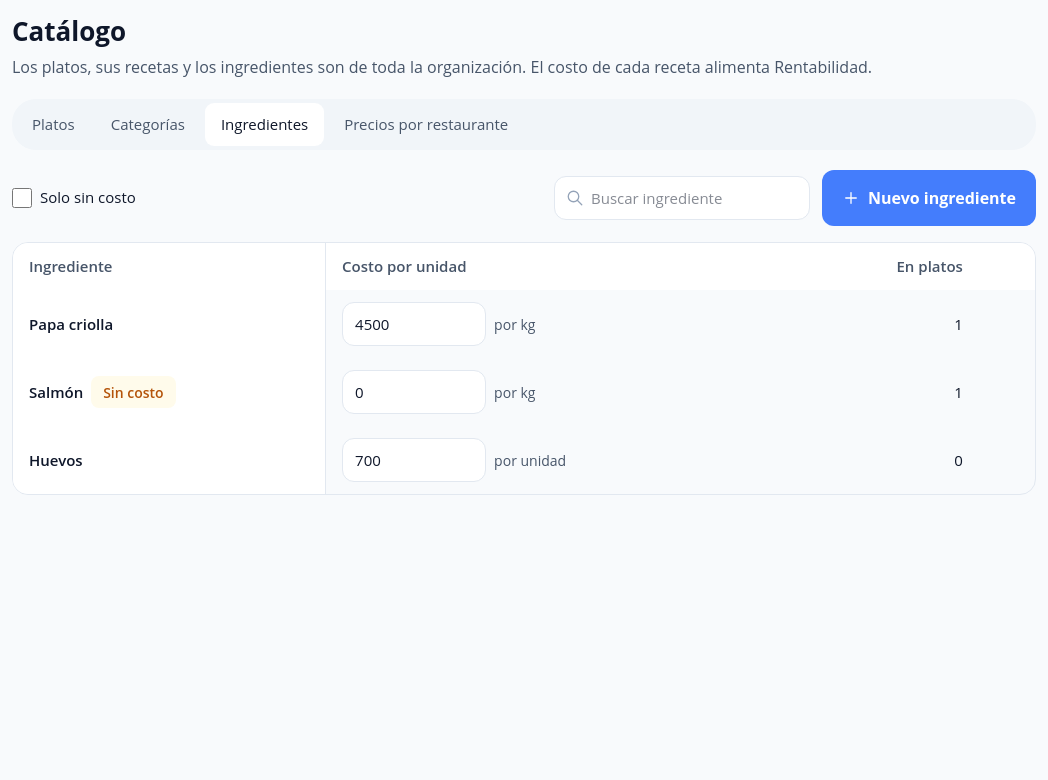
Test: guarda el costo de un ingrediente
The width and height of the screenshot is (1048, 780).
Expected: the row "Salmón Sin costo por kg 1" is shown, [13, 358, 1035, 426]
Expected: the number field named "Costo de Huevos por unidad" is shown, [342, 438, 486, 482]
Replace the text in the number field named "Costo de Papa criolla por kg" with "-1": (414, 324) [342, 302, 486, 346]
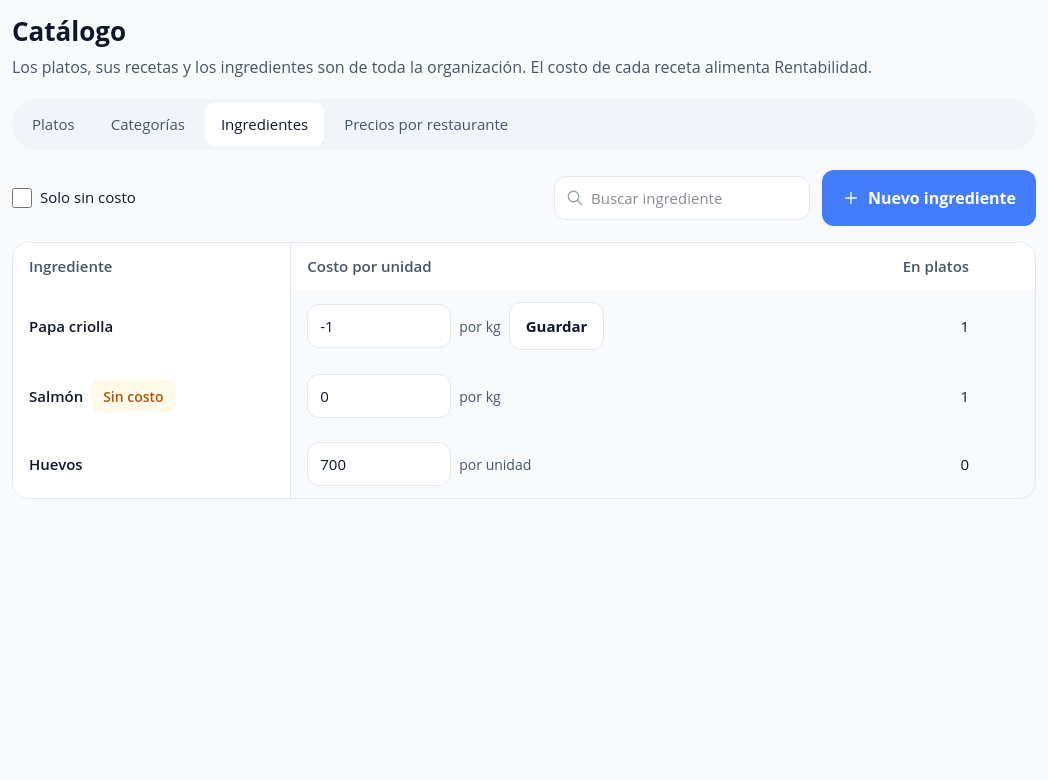
Click the button "Guardar": (557, 326) [509, 302, 604, 350]
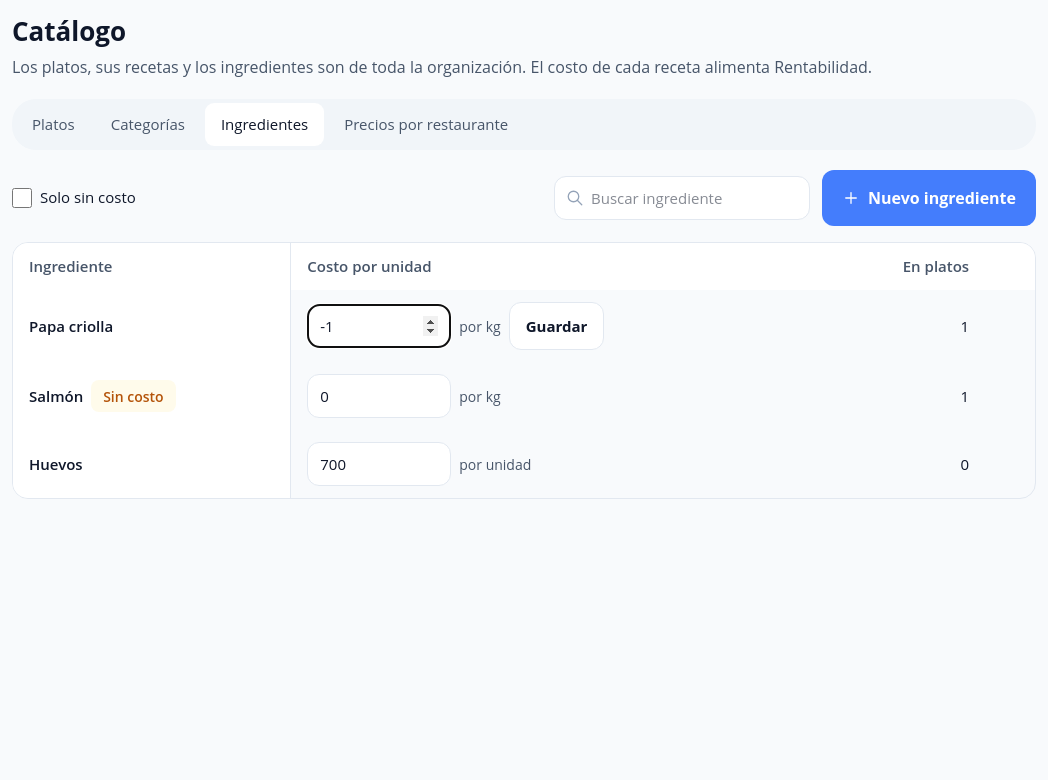
Replace the text in the number field named "Costo de Papa criolla por kg" with "5000": (379, 326) [307, 304, 451, 348]
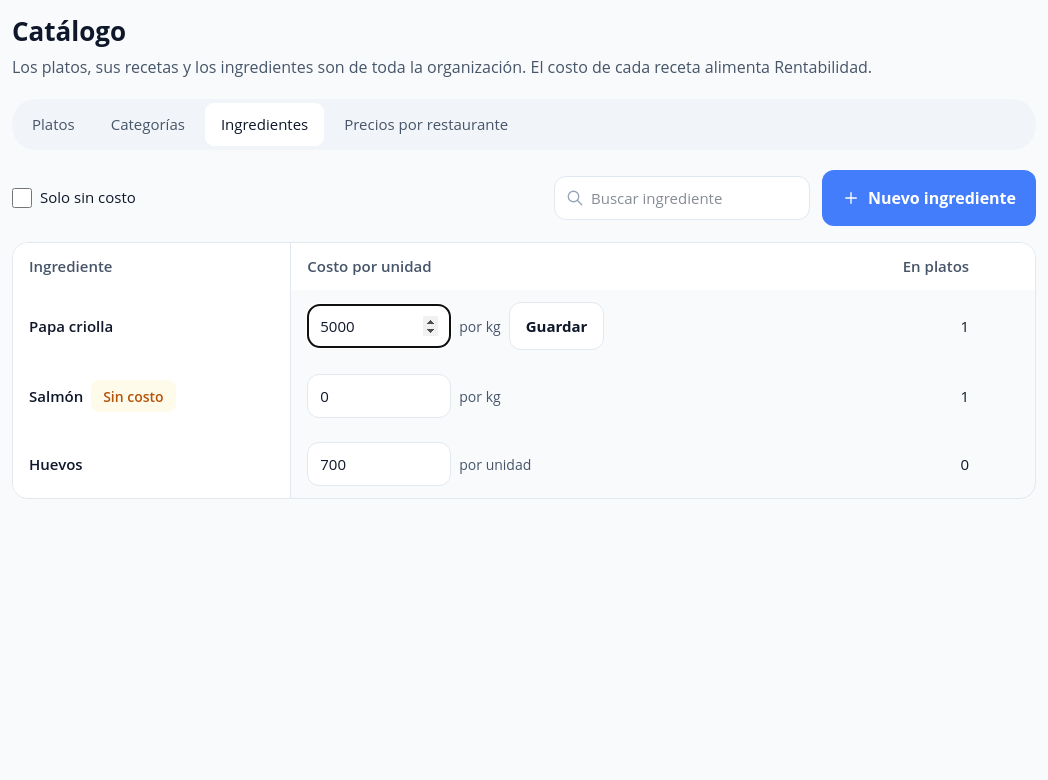
Click the button "Guardar": (557, 326) [509, 302, 604, 350]
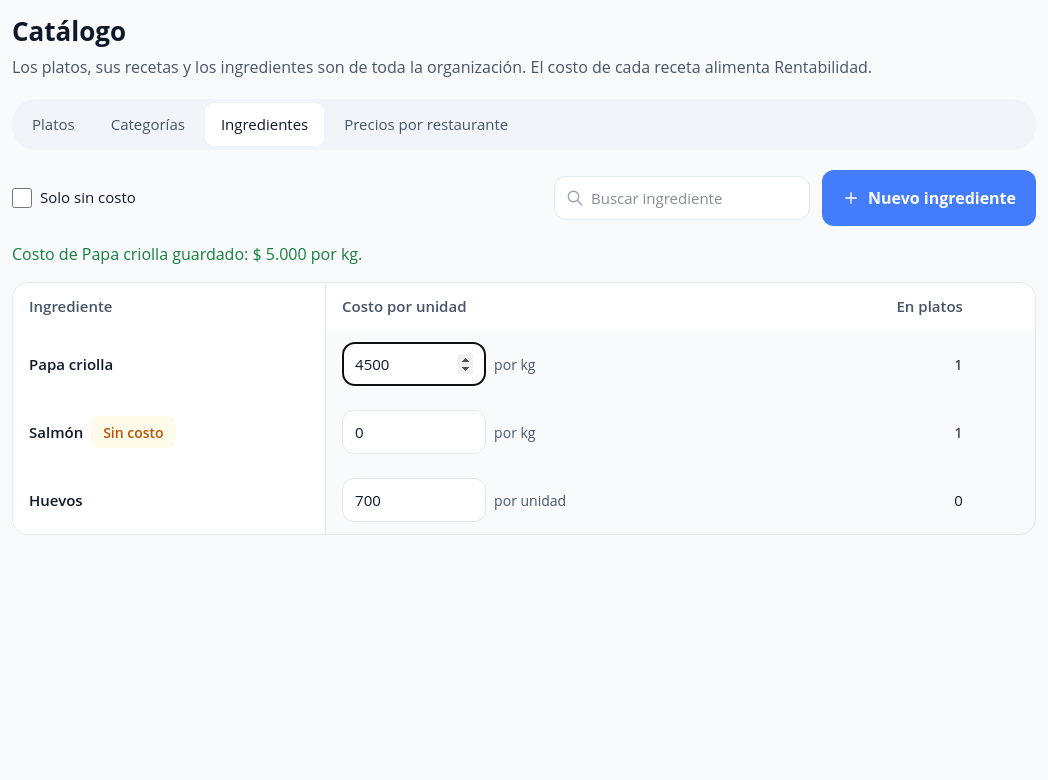
Expected: the message shows "Costo de Papa criolla guardado", [12, 242, 362, 264]
